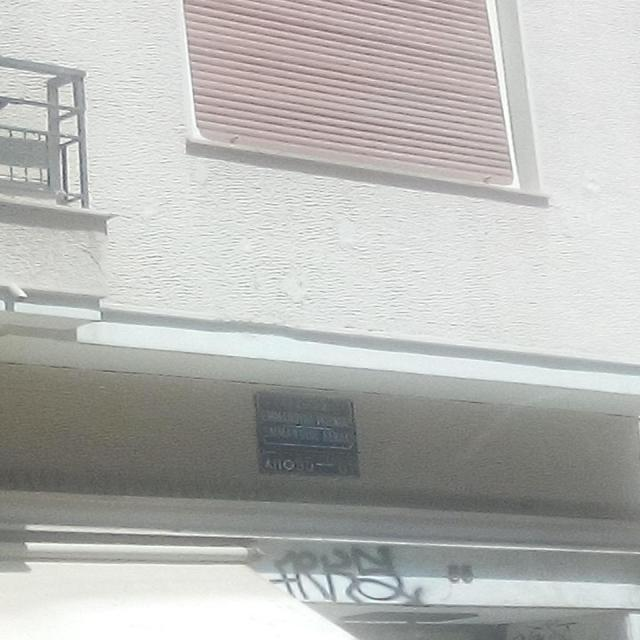nonspitting: (276, 548, 476, 606)
